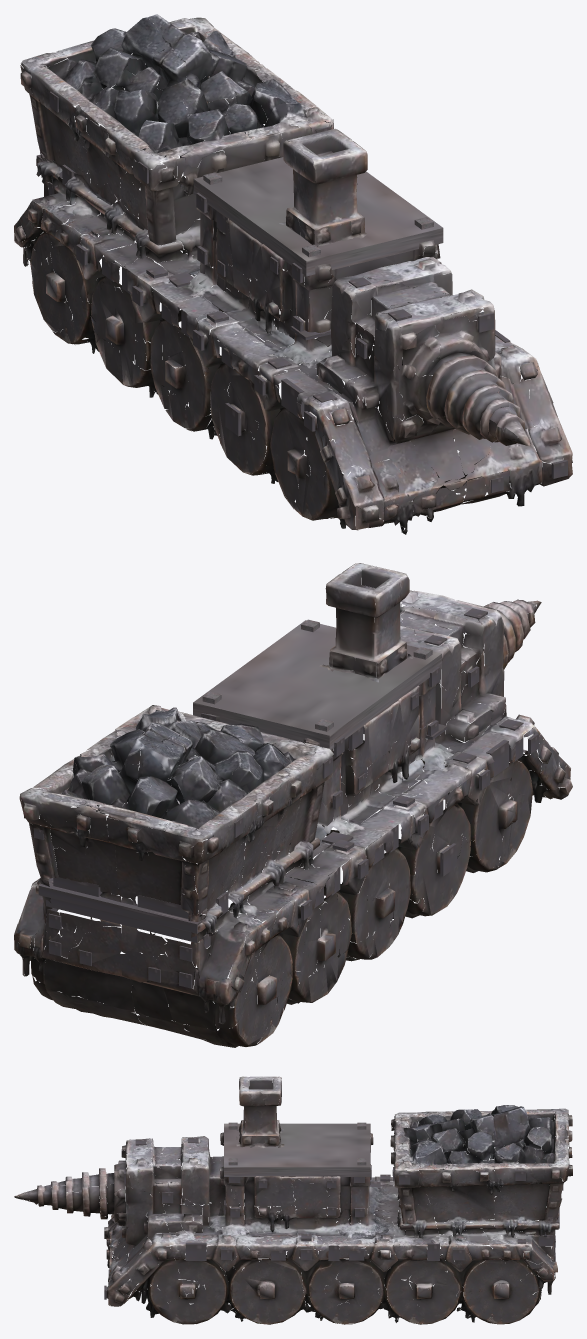
File: orecrawler.glb
3 views of the same model, one above another, from view 1: azimuth 30°, elevation 25°; view 2: azimuth 150°, elevation 25°; view 3: azimuth 270°, elevation 25° (orthographic). The views are drawn at different scales.
Visible parts, largest first — view 1: tripo_node_2a5ff279-57f9-4327-bbfc-f8ed3964efdb; view 2: tripo_node_2a5ff279-57f9-4327-bbfc-f8ed3964efdb; view 3: tripo_node_2a5ff279-57f9-4327-bbfc-f8ed3964efdb.
Part boxes in pixels (x1,y1,x2,y2): tripo_node_2a5ff279-57f9-4327-bbfc-f8ed3964efdb: (14, 14, 572, 534); tripo_node_2a5ff279-57f9-4327-bbfc-f8ed3964efdb: (14, 563, 572, 1047); tripo_node_2a5ff279-57f9-4327-bbfc-f8ed3964efdb: (14, 1076, 572, 1324).
Bounding box in the file's own units: 0.3042 × 0.3977 × 0.9834.
1 material, 1 textured.
